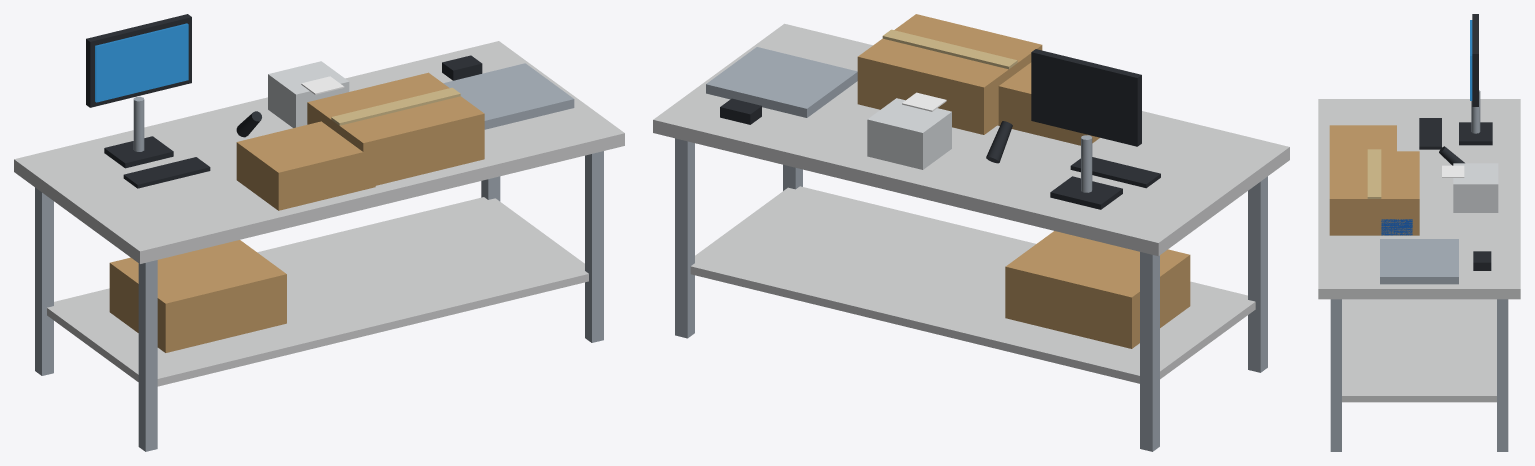
File: paketleme-masasi.glb
3 renders of one model, left to right at view 1: azimuth 30°, elevation 25°; view 2: azimuth 150°, elevation 25°; view 3: azimuth 270°, elevation 25°, orthographic. The views are drawn at different scales.
Parts seen in each view (by area): view 1: Asset; view 2: Asset; view 3: Asset.
Boxes of the visible parts, x1,y1,x2,y2 form: Asset: [14, 14, 624, 451]; Asset: [653, 14, 1289, 451]; Asset: [1318, 14, 1520, 451].
Size of the model in its own units: 2 by 1.33 by 0.9.
